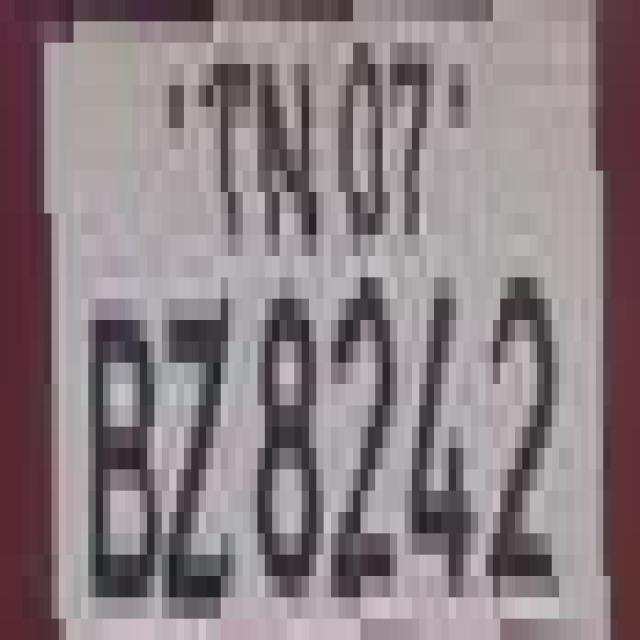license_plate: (29, 21, 640, 640)
